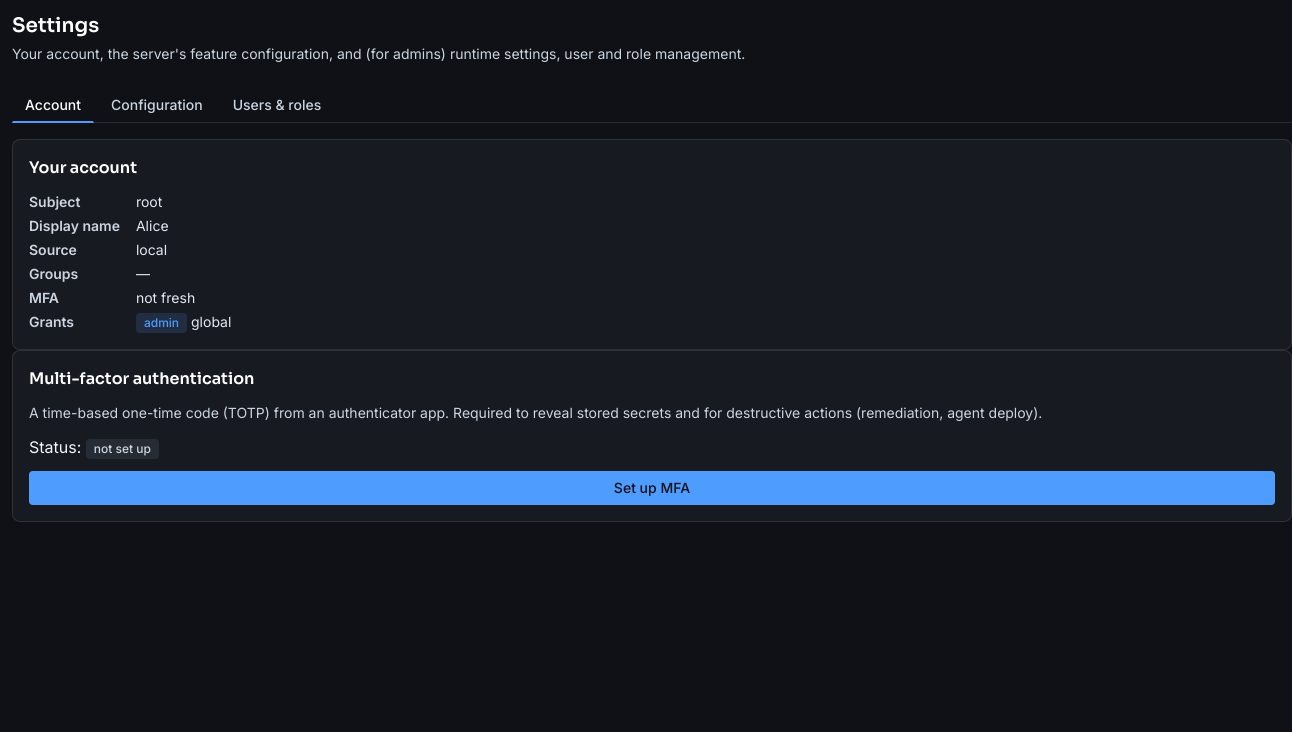
Test: Settings page › shows the create-user form on the Users & roles tab for an admin
Step 1. Click the tab "Users & roles" → x=277, y=106, box [220,88,334,123]
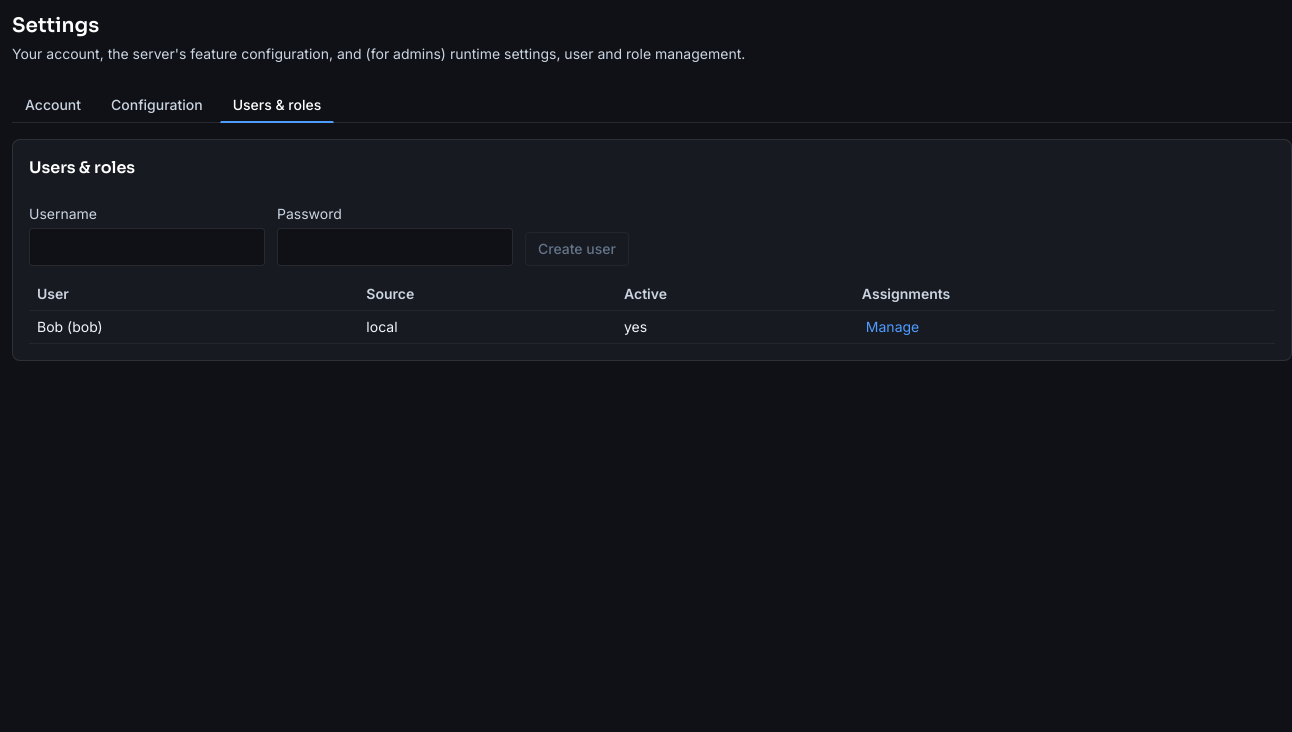
Result: the button "Create user" is shown at [525,232,629,266]
